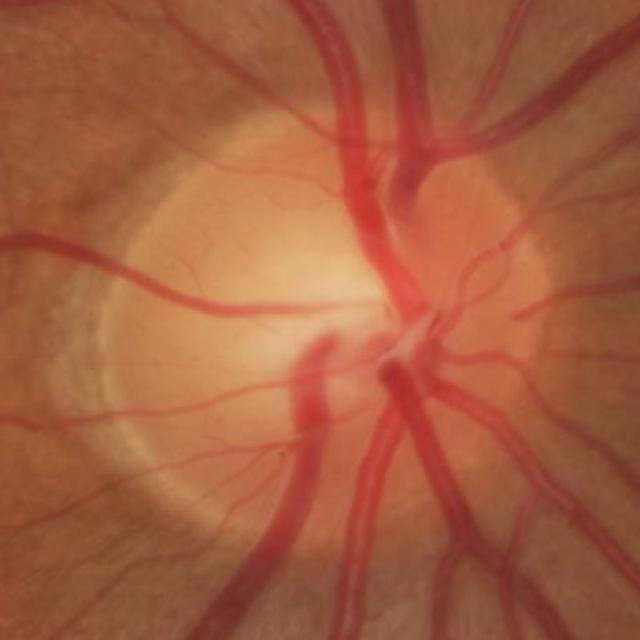OC: (204, 213, 418, 413)
OD: (89, 110, 551, 548)
